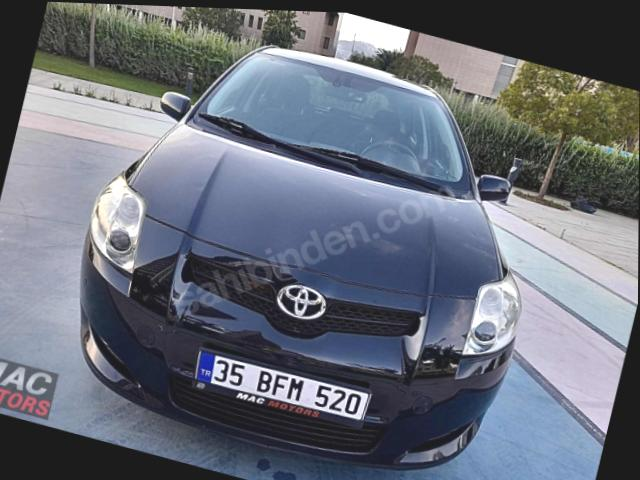plaka: (195, 350, 369, 420)
